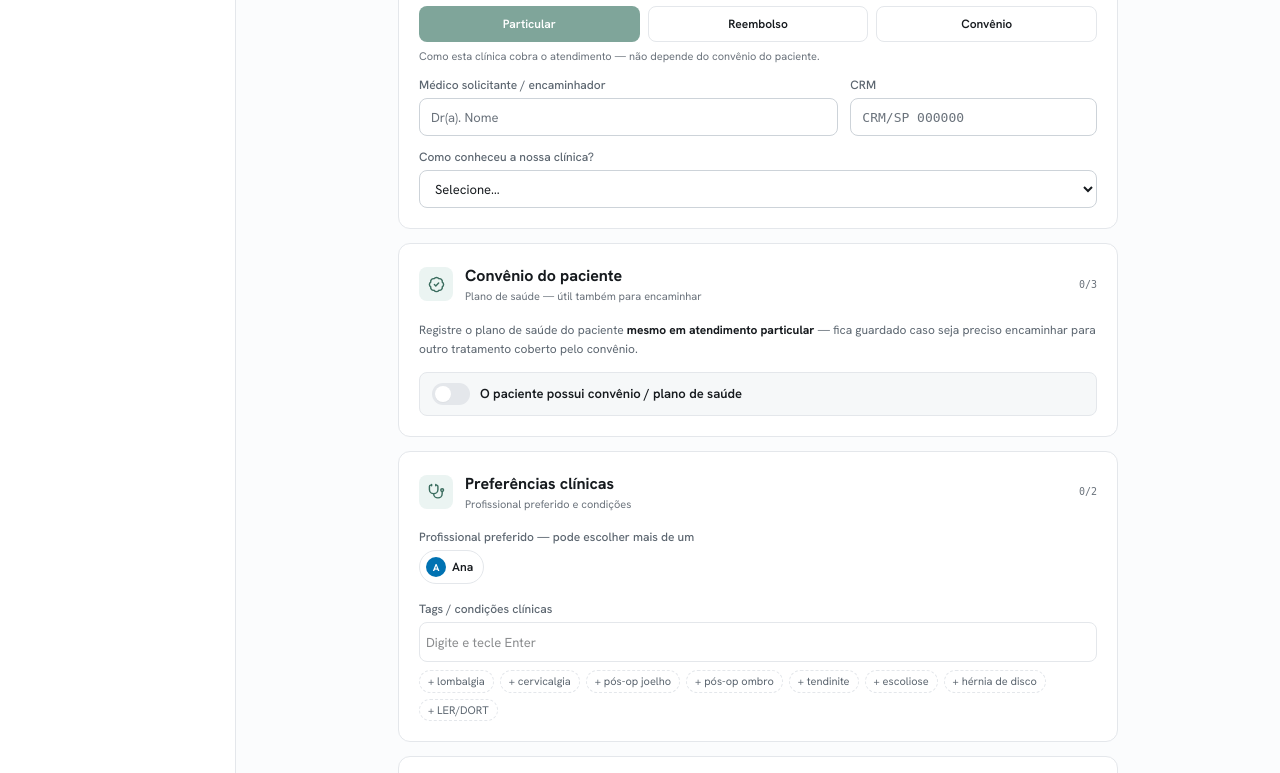
PatientForm — novo › ligar "possui convênio" revela os campos do plano
(page scrolled)
Expected: the text "Nome do convênio" is not shown
Click the switch named "possui convênio".
click(451, 394)  # box top-left (432, 382), bottom-right (470, 404)
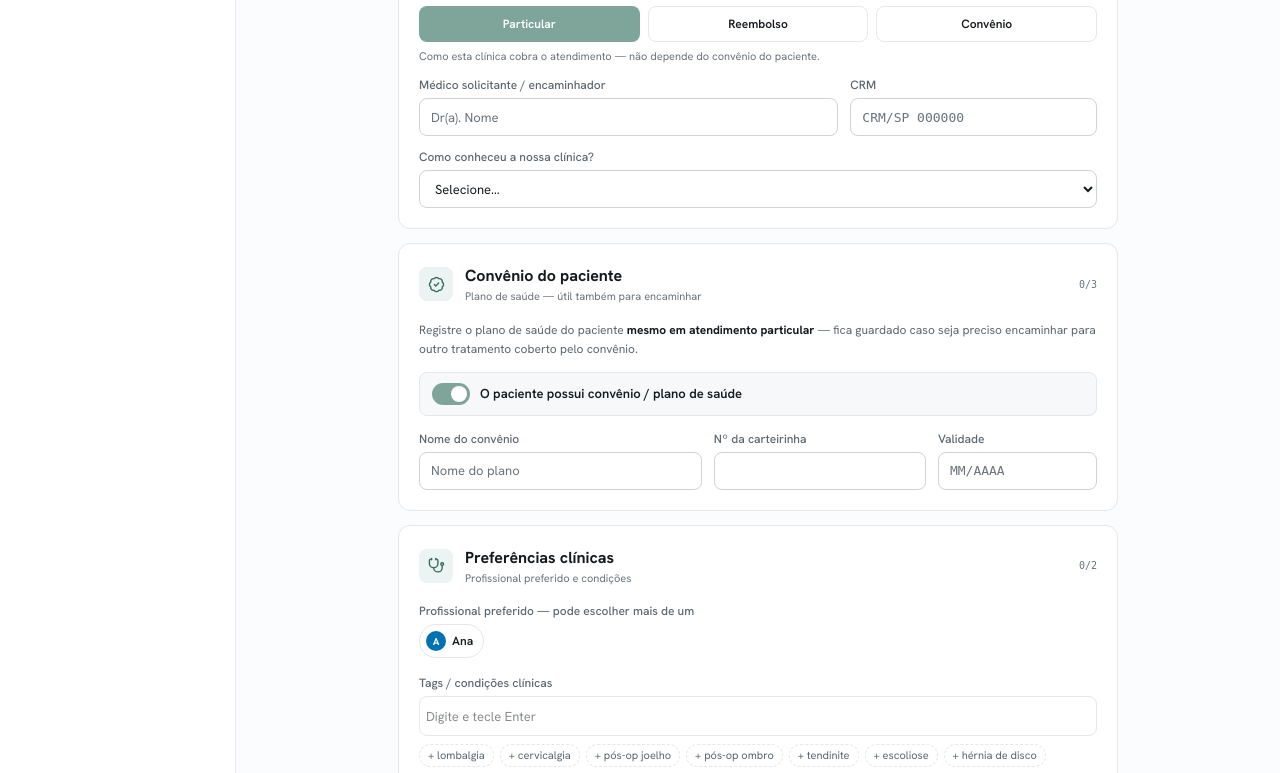
Result: the text "Nome do convênio" is shown at top-left (419, 430), bottom-right (519, 446)
